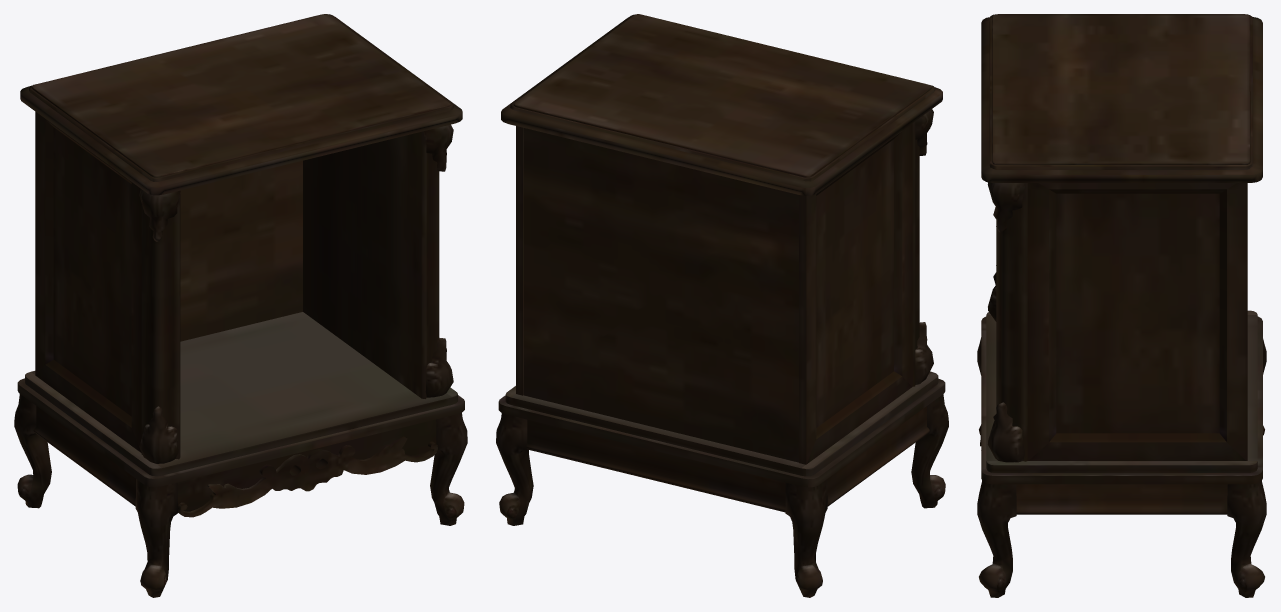
File: ClassicNightstand_01.glb
3 views of the same model, side by side, from view 1: azimuth 30°, elevation 25°; view 2: azimuth 150°, elevation 25°; view 3: azimuth 270°, elevation 25° (orthographic). The views are drawn at different scales.
Parts seen in each view (by area): view 1: ClassicNightstand_01; view 2: ClassicNightstand_01; view 3: ClassicNightstand_01.
Boxes of the visible parts, box(x1,y1,x2,y2) form: ClassicNightstand_01: box(14, 14, 467, 597); ClassicNightstand_01: box(496, 14, 948, 597); ClassicNightstand_01: box(977, 14, 1266, 597).
Size of the model in its own units: 0.5678 by 0.7 by 0.4242.
Materials: 1 (1 with a texture image).
